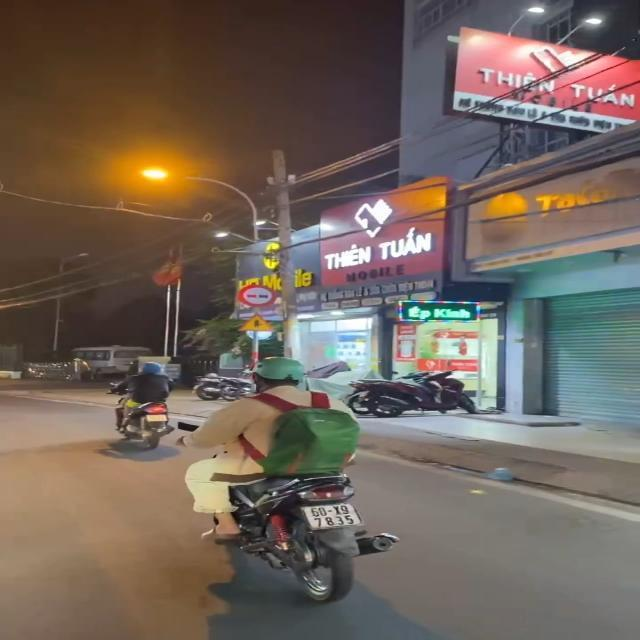125-cam-vuot: (238, 284, 276, 308)
207-giao-nhau-voi-duong-khong-uu-tien: (236, 312, 280, 332)
